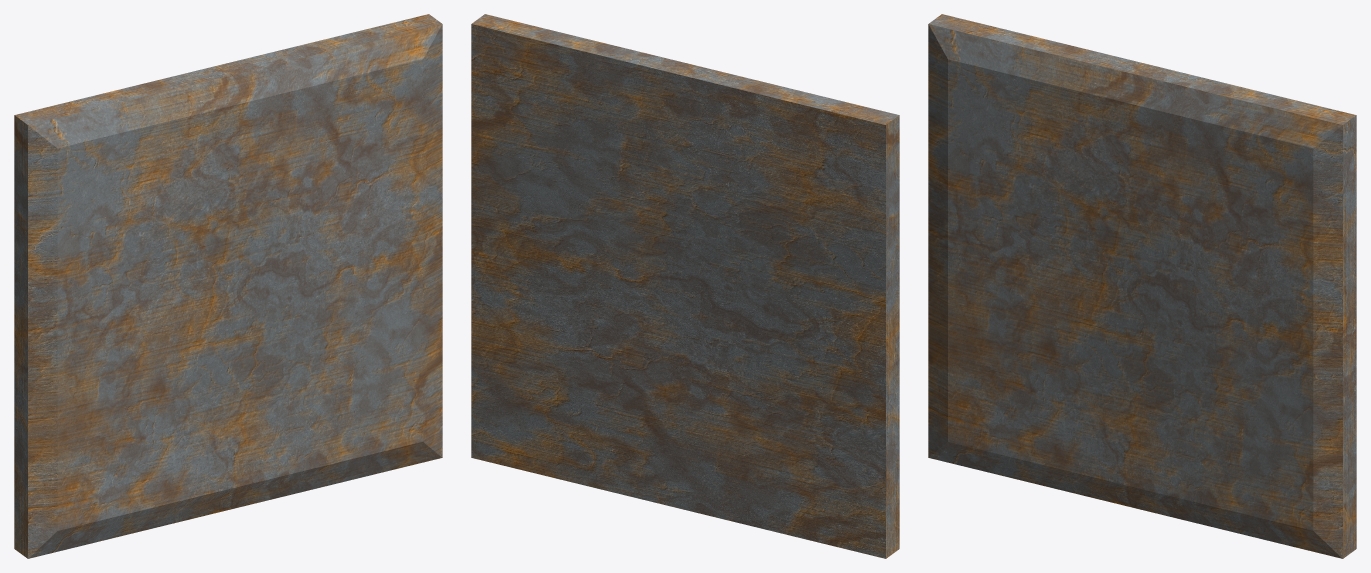
The model's file is groundTile2.obj.
The picture shows the model from 3 angles, left to right: view 1: azimuth 30°, elevation 25°; view 2: azimuth 150°, elevation 25°; view 3: azimuth 330°, elevation 25°; orthographic projection.
Visible parts, largest first — view 1: Cube; view 2: Cube; view 3: Cube.
Boxes of the visible parts, left/top/right/bottom form: Cube: left=14, top=14, right=442, bottom=558; Cube: left=471, top=14, right=899, bottom=558; Cube: left=928, top=14, right=1356, bottom=558.
Size of the model in its own units: 1 by 1 by 0.0779.
1 material, 1 textured.
